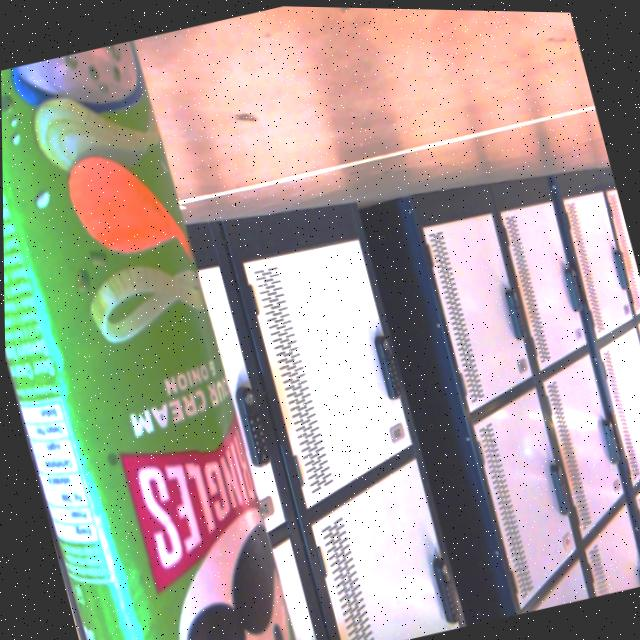greenpringles: (0, 28, 331, 640)
